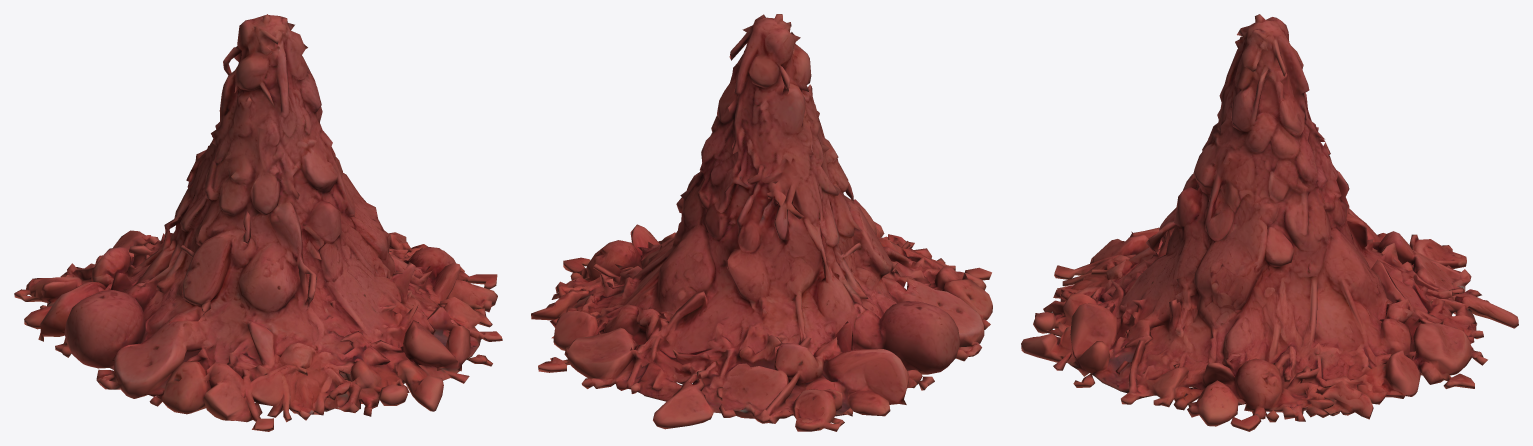
Rendered from termite.glb.
3 views of the same model, side by side, from view 1: azimuth 30°, elevation 25°; view 2: azimuth 150°, elevation 25°; view 3: azimuth 270°, elevation 25° (orthographic).
Visible parts, largest first — view 1: tripo_node_856dd780-5488-4bc2-8a41-cf663f8da945; view 2: tripo_node_856dd780-5488-4bc2-8a41-cf663f8da945; view 3: tripo_node_856dd780-5488-4bc2-8a41-cf663f8da945.
Boxes of the visible parts, left/top/right/bottom form: tripo_node_856dd780-5488-4bc2-8a41-cf663f8da945: left=14, top=14, right=502, bottom=431; tripo_node_856dd780-5488-4bc2-8a41-cf663f8da945: left=531, top=14, right=992, bottom=431; tripo_node_856dd780-5488-4bc2-8a41-cf663f8da945: left=1021, top=14, right=1518, bottom=431.
Bounding box in the file's own units: 4.24 × 3.2 × 4.54.
Materials: 1 (1 with a texture image).
